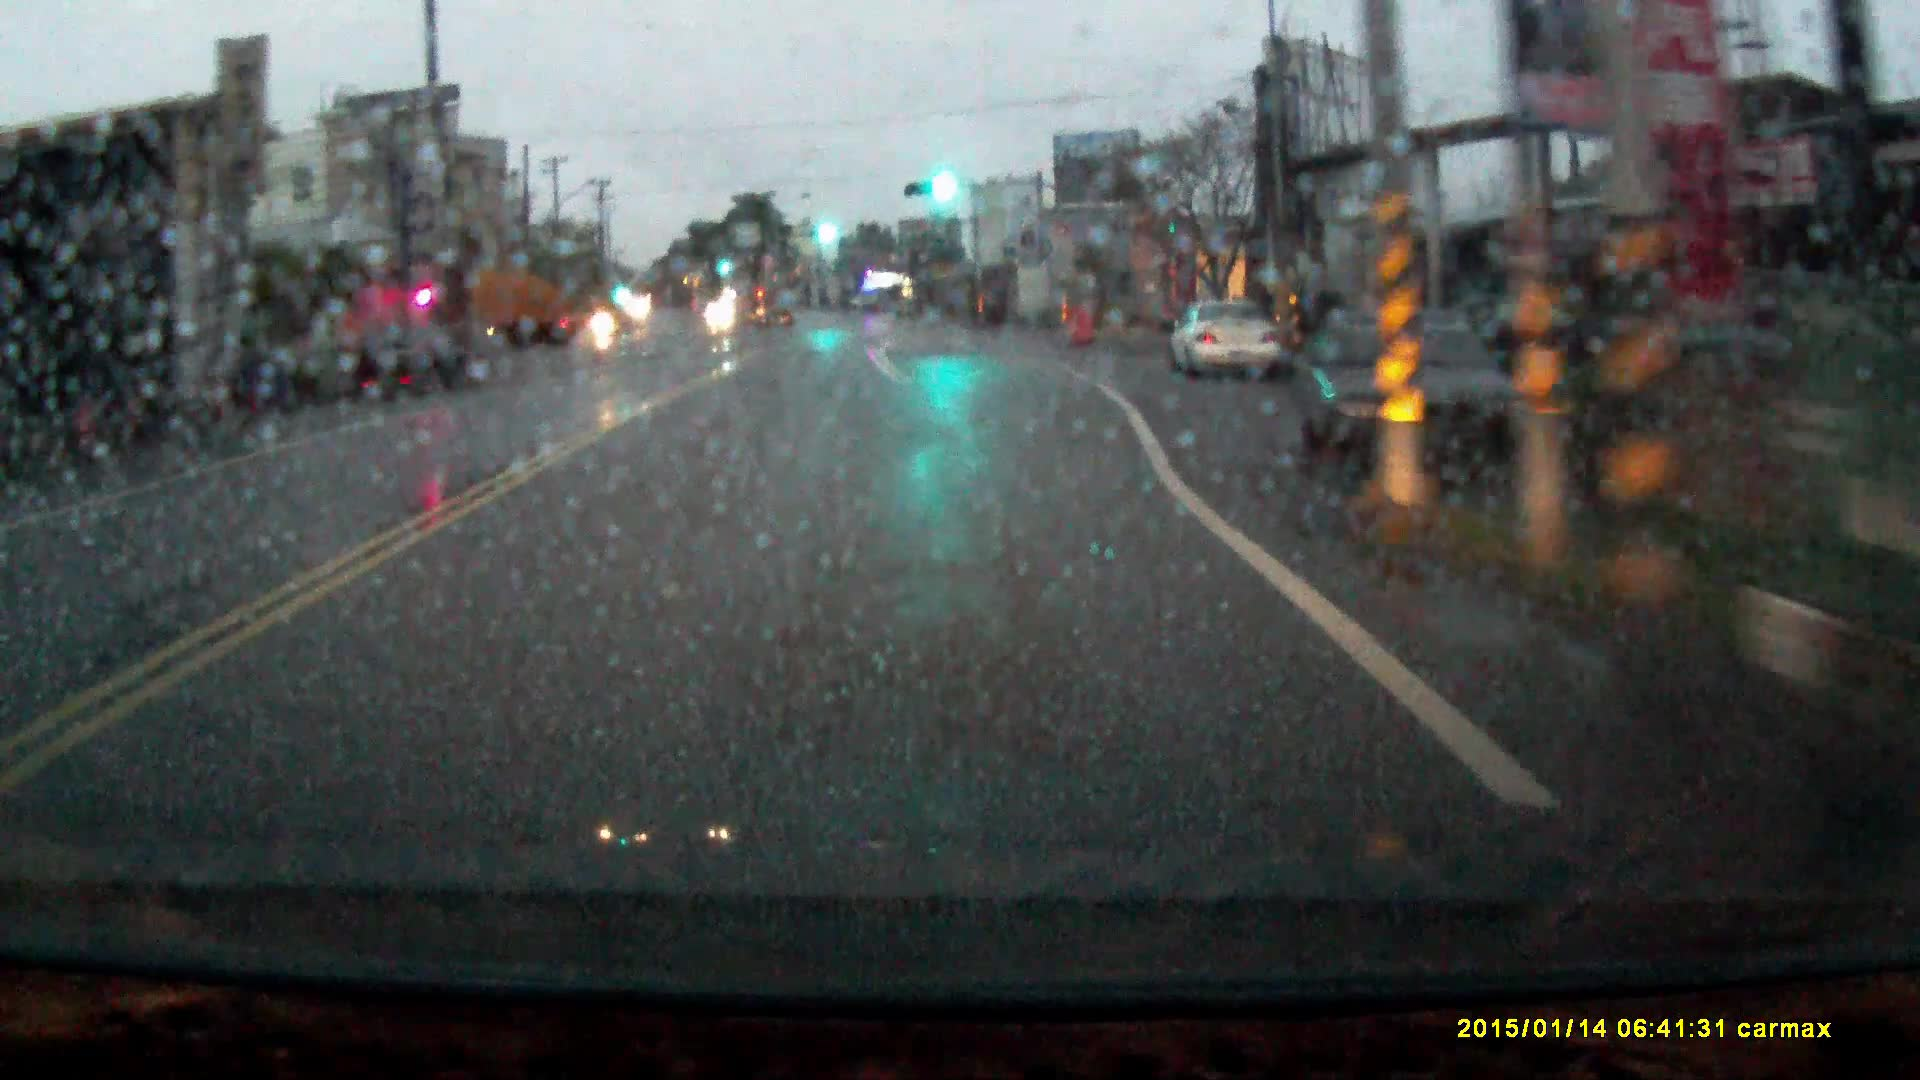rider: (585, 299, 621, 358)
vehicle: (1287, 314, 1534, 477), (1163, 288, 1283, 369), (468, 261, 573, 343), (350, 317, 464, 386), (707, 294, 735, 318)
